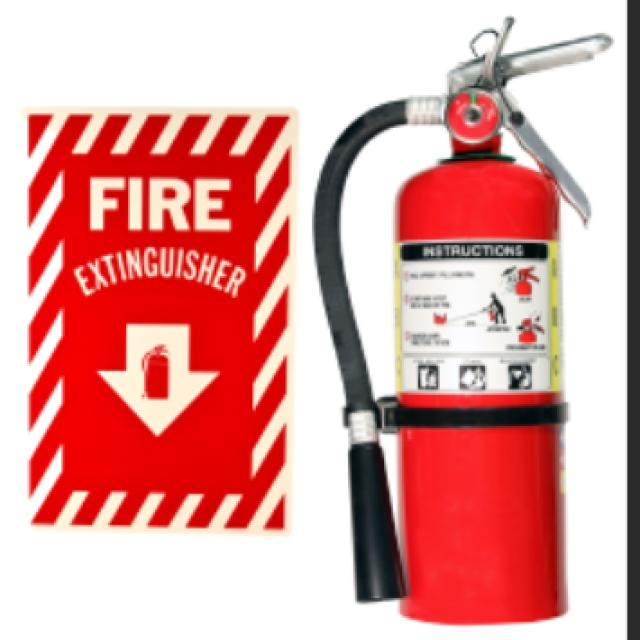fire extinguisher: (327, 30, 605, 624)
fire signage: (15, 97, 306, 560)
